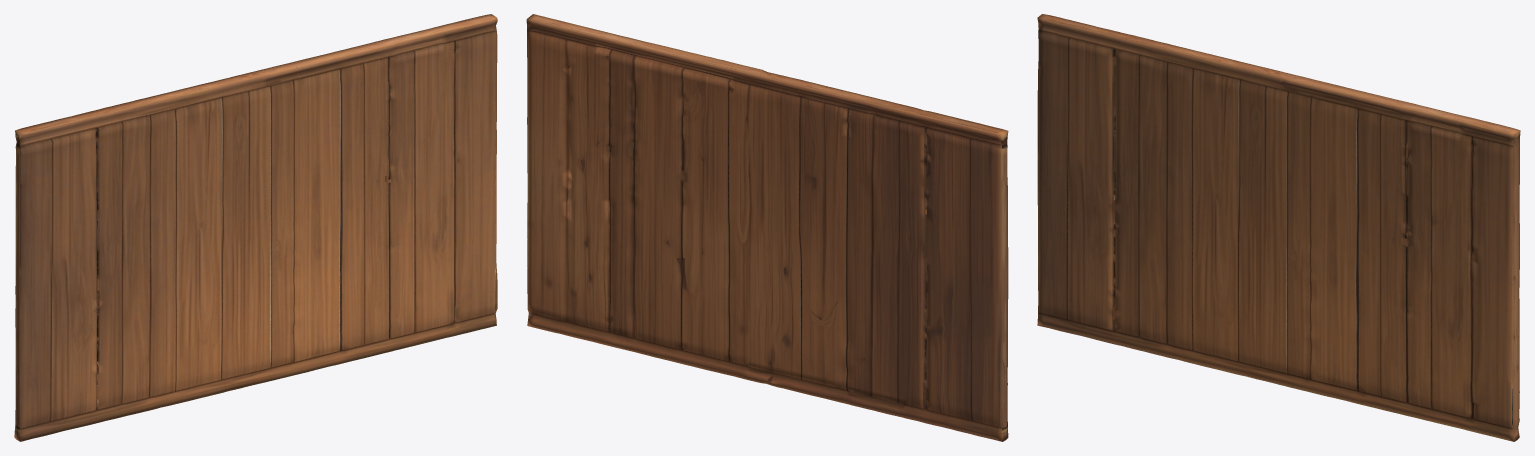
File: an_indoor_wooden_wall_0424171014_texture.fbx
3 views of the same model, side by side, from view 1: azimuth 30°, elevation 25°; view 2: azimuth 150°, elevation 25°; view 3: azimuth 330°, elevation 25° (orthographic).
Parts seen in each view (by area): view 1: Mesh1; view 2: Mesh1; view 3: Mesh1.
Boxes of the visible parts, left/top/right/bottom form: Mesh1: left=14, top=14, right=497, bottom=441; Mesh1: left=526, top=14, right=1008, bottom=441; Mesh1: left=1037, top=14, right=1520, bottom=441.
Bounding box in the file's own units: 200 × 123 × 5.42.
Materials: 1 (1 with a texture image).
